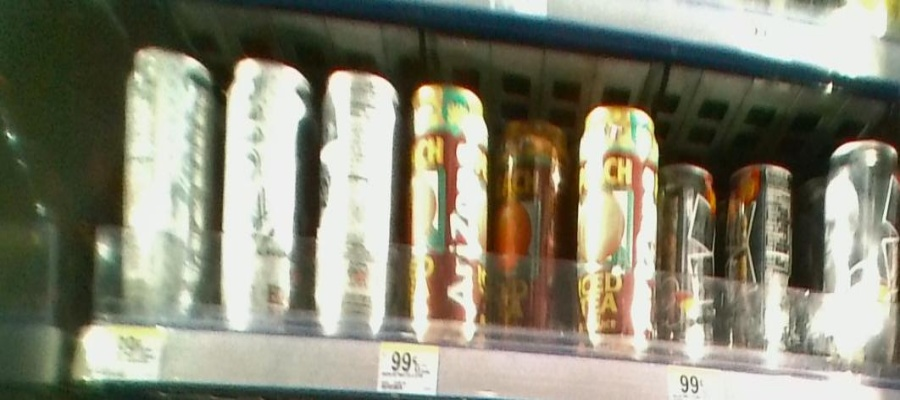bottle: (110, 31, 214, 319), (309, 51, 401, 340), (219, 36, 305, 336), (407, 62, 486, 349), (572, 96, 657, 357), (819, 133, 900, 378), (496, 115, 566, 357), (727, 145, 794, 362), (660, 145, 725, 362)
